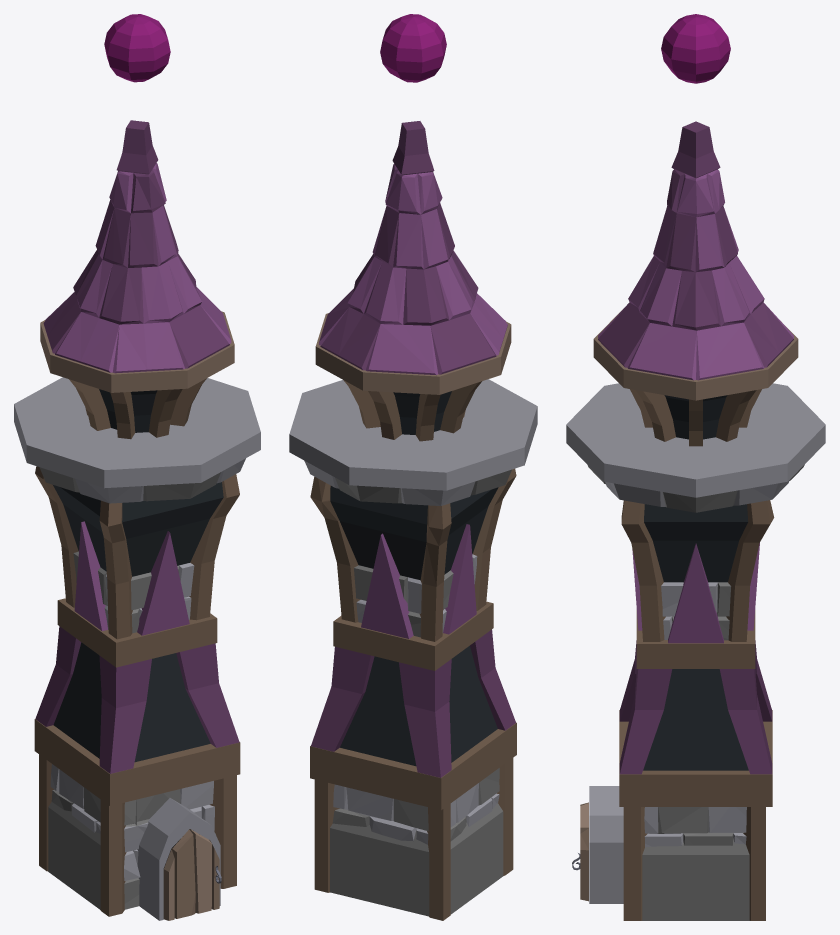
Rendered from Wizard_LVL2.fbx.
The picture shows the model from 3 angles, left to right: view 1: azimuth 30°, elevation 25°; view 2: azimuth 150°, elevation 25°; view 3: azimuth 270°, elevation 25°; orthographic projection.
Parts seen in each view (by area): view 1: Wizard_tower_LVL_2, Wizard_tower_LVL_2.001; view 2: Wizard_tower_LVL_2, Wizard_tower_LVL_2.001; view 3: Wizard_tower_LVL_2, Wizard_tower_LVL_2.001.
Part boxes in pixels (left/top/right/bottom): Wizard_tower_LVL_2: left=14, top=120, right=260, bottom=920; Wizard_tower_LVL_2.001: left=104, top=14, right=170, bottom=82; Wizard_tower_LVL_2: left=289, top=121, right=537, bottom=920; Wizard_tower_LVL_2.001: left=380, top=14, right=446, bottom=82; Wizard_tower_LVL_2: left=566, top=121, right=825, bottom=920; Wizard_tower_LVL_2.001: left=661, top=14, right=730, bottom=83.
Size of the model in its own units: 552 by 2046 by 552.
